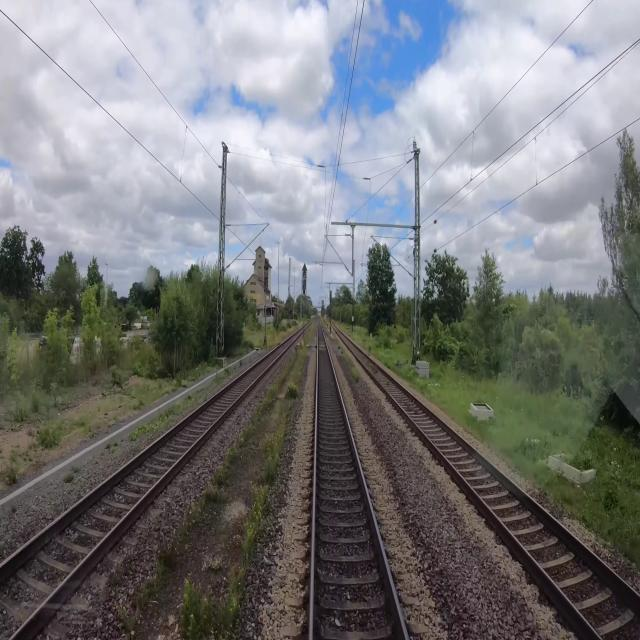Plant: (178, 480, 270, 639), (212, 351, 298, 486), (135, 500, 210, 609), (262, 348, 307, 482), (336, 339, 360, 382), (114, 602, 132, 633), (200, 551, 222, 571), (299, 323, 315, 348), (204, 486, 227, 503), (111, 571, 118, 584), (64, 474, 74, 483)
